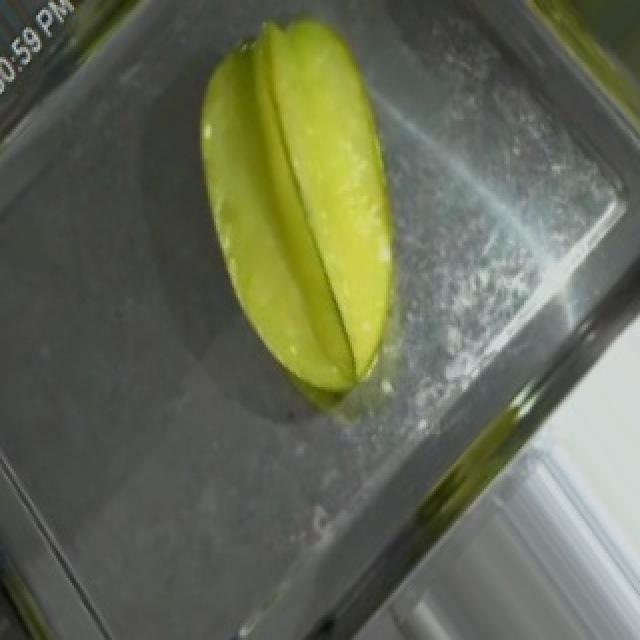fruit: (132, 3, 486, 419), (478, 424, 640, 640)
